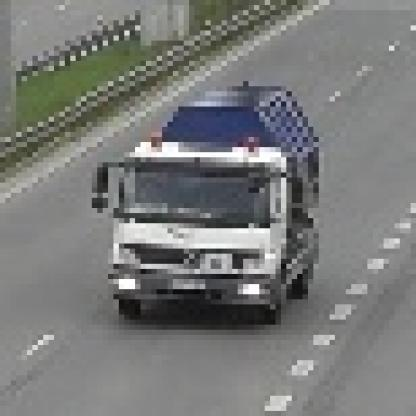truck: (93, 77, 320, 316)
